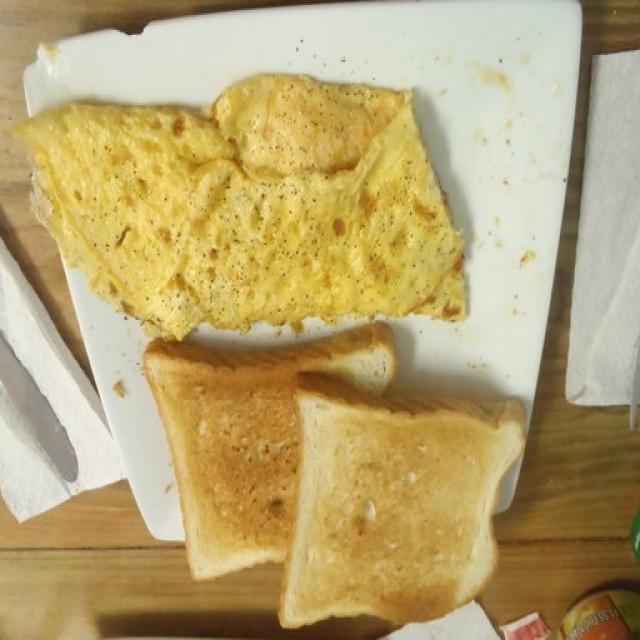telur_ayam_dadar: (15, 73, 469, 344)
